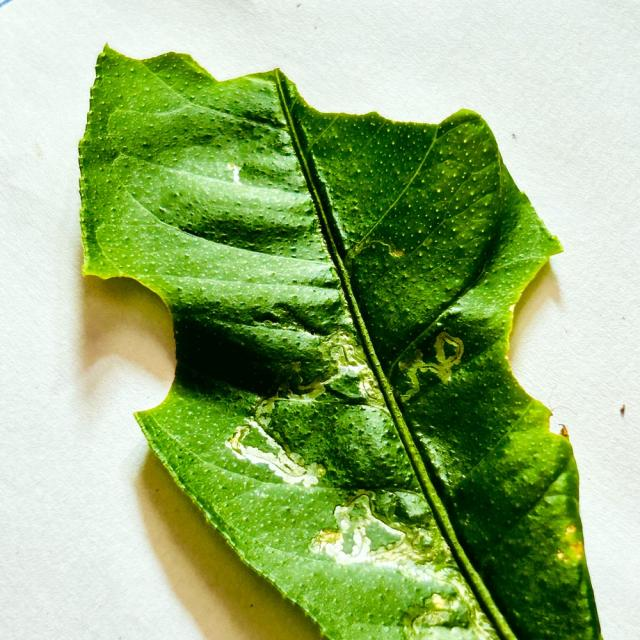Deficiency Leaf: (106, 24, 463, 127), (78, 275, 176, 420), (508, 255, 580, 440)
Lemon: (79, 46, 601, 639)
